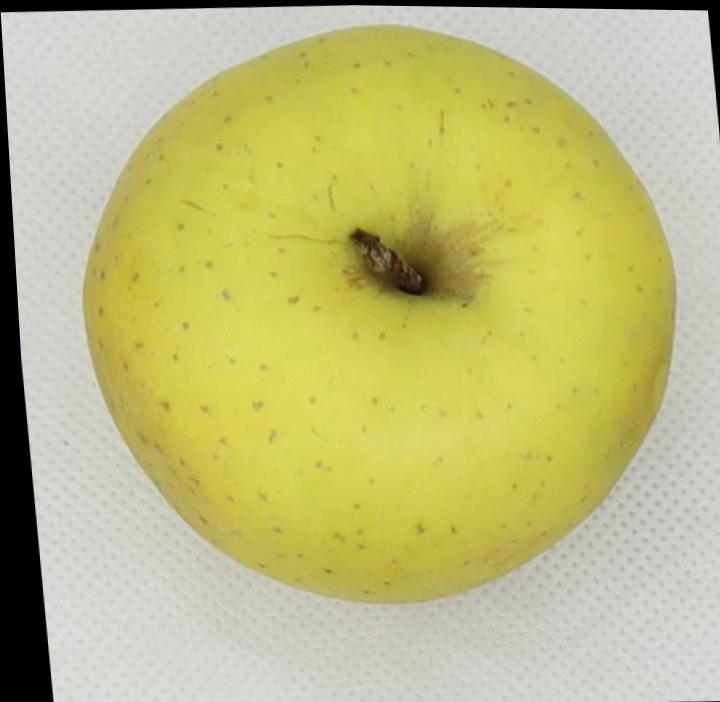apple: (84, 27, 676, 602)
